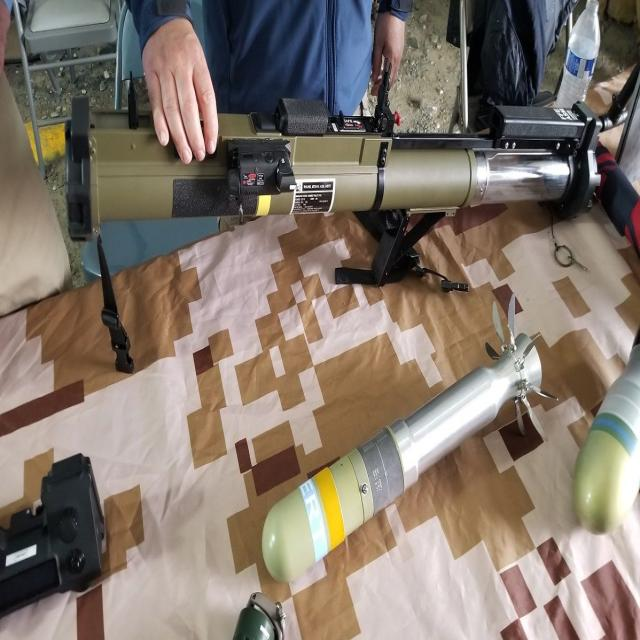bazooka: (60, 83, 604, 310)
